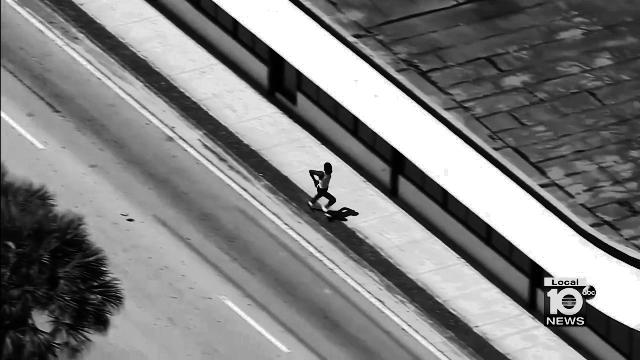berlari: (307, 158, 338, 222)
